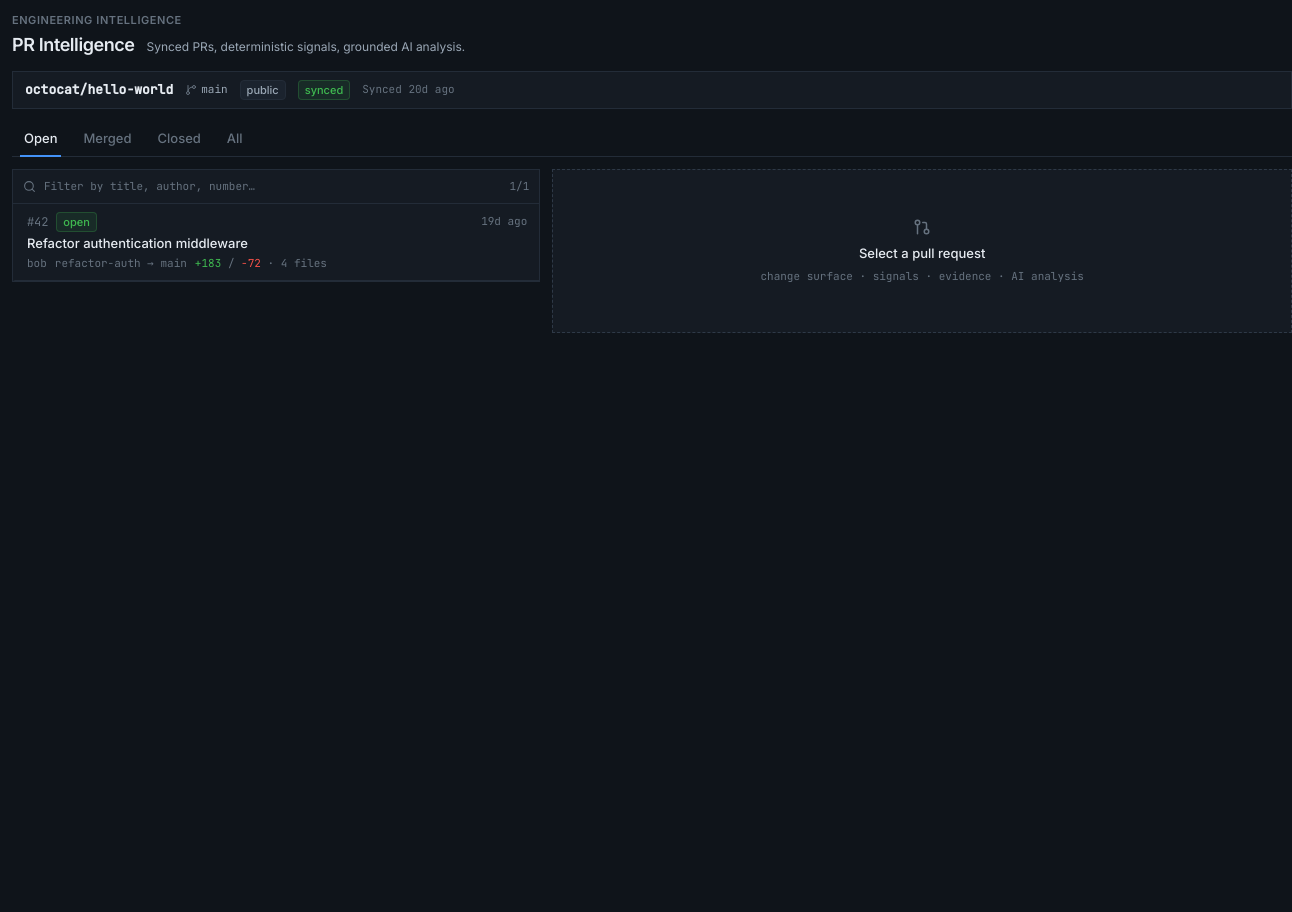
Test: PullRequestPage real intelligence › shows detail with deterministic signals and context
The image size is (1292, 912).
Click the text "Refactor authentication middleware".
click(137, 242)  # box [27, 234, 248, 250]
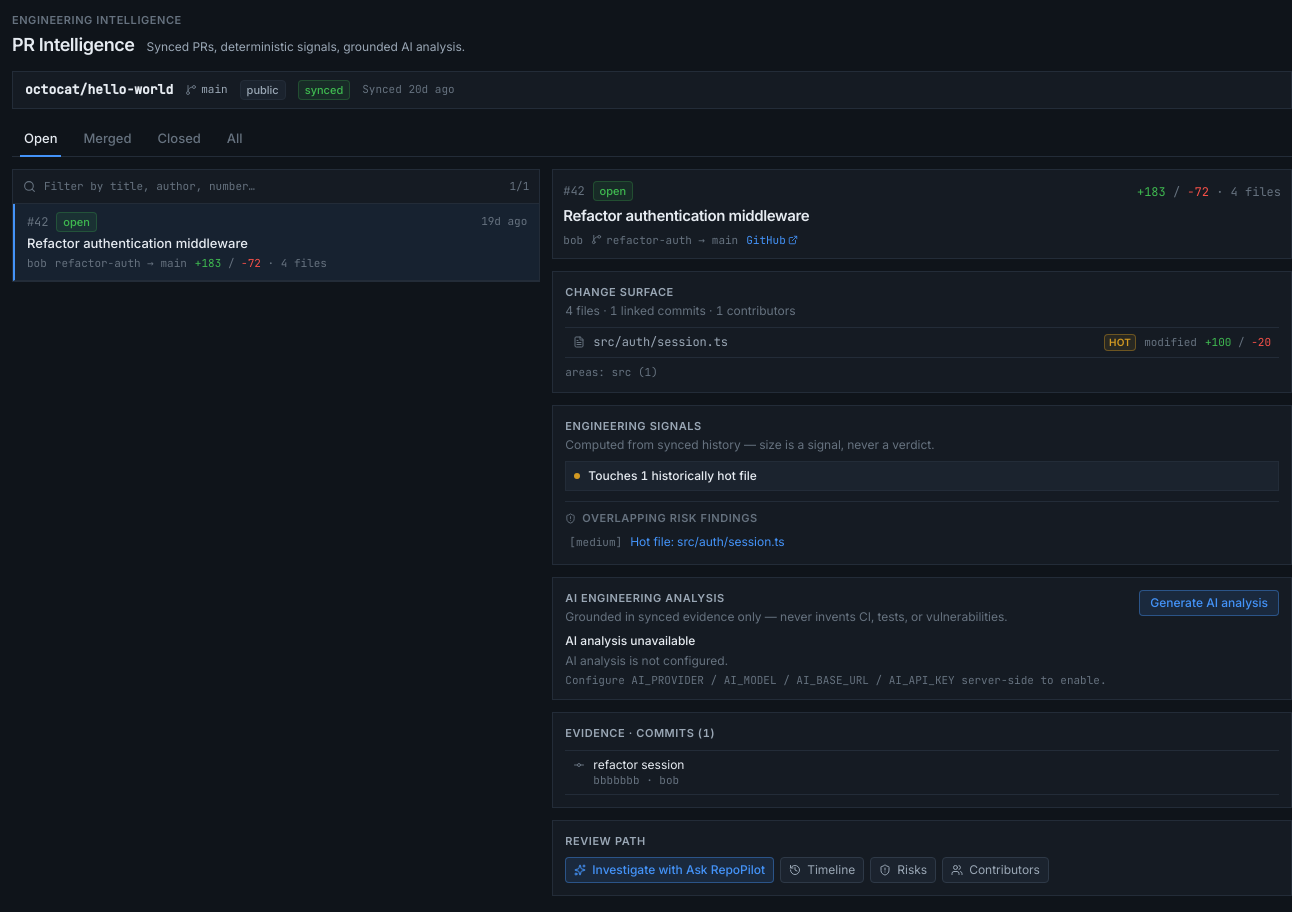
Expected: the heading "Change surface" is shown, [565, 285, 674, 299]
Expected: the heading "Touches 1 historically hot file" is shown, [574, 468, 757, 483]
Expected: the link "src/auth/session.ts" is shown, [593, 334, 728, 350]
